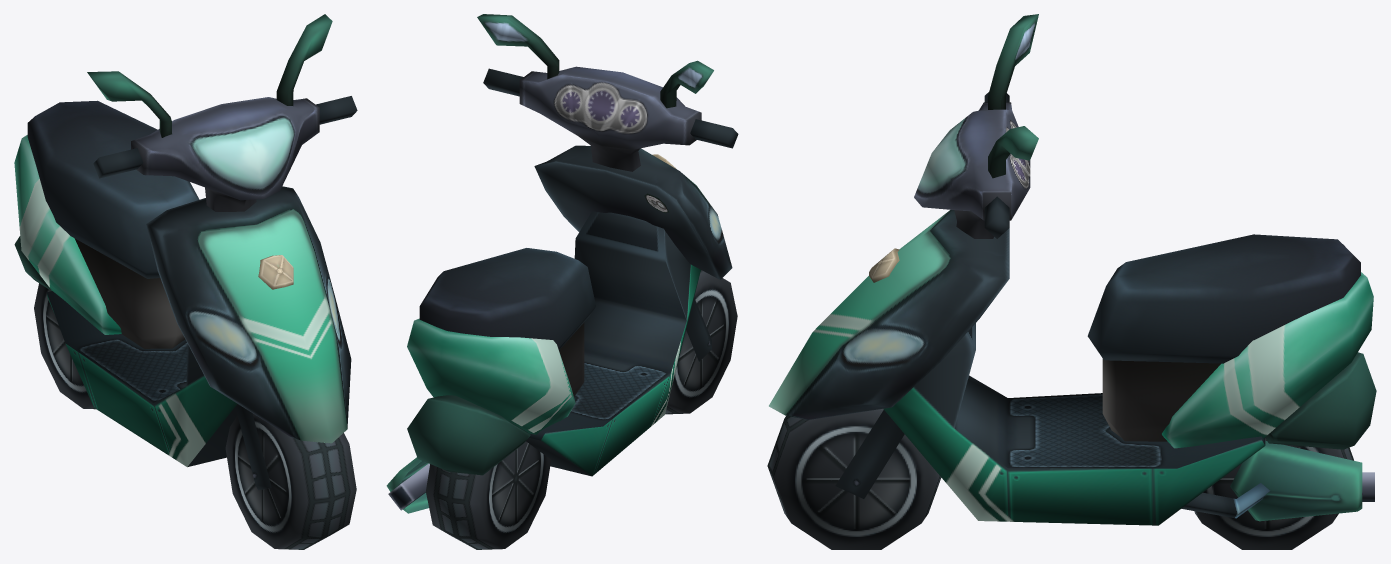
Rendered from motor.glb.
The picture shows the model from 3 angles, left to right: view 1: azimuth 30°, elevation 25°; view 2: azimuth 150°, elevation 25°; view 3: azimuth 270°, elevation 25°; orthographic projection. The views are drawn at different scales.
Parts seen in each view (by area): view 1: Motor; view 2: Motor; view 3: Motor.
Part boxes in pixels (x1=…): Motor: x1=14, y1=14, x2=357, y2=549; Motor: x1=386, y1=14, x2=738, y2=549; Motor: x1=767, y1=14, x2=1376, y2=549.
Size of the model in its own units: 1.16 by 1.9 by 2.25.
1 material, 1 textured.
